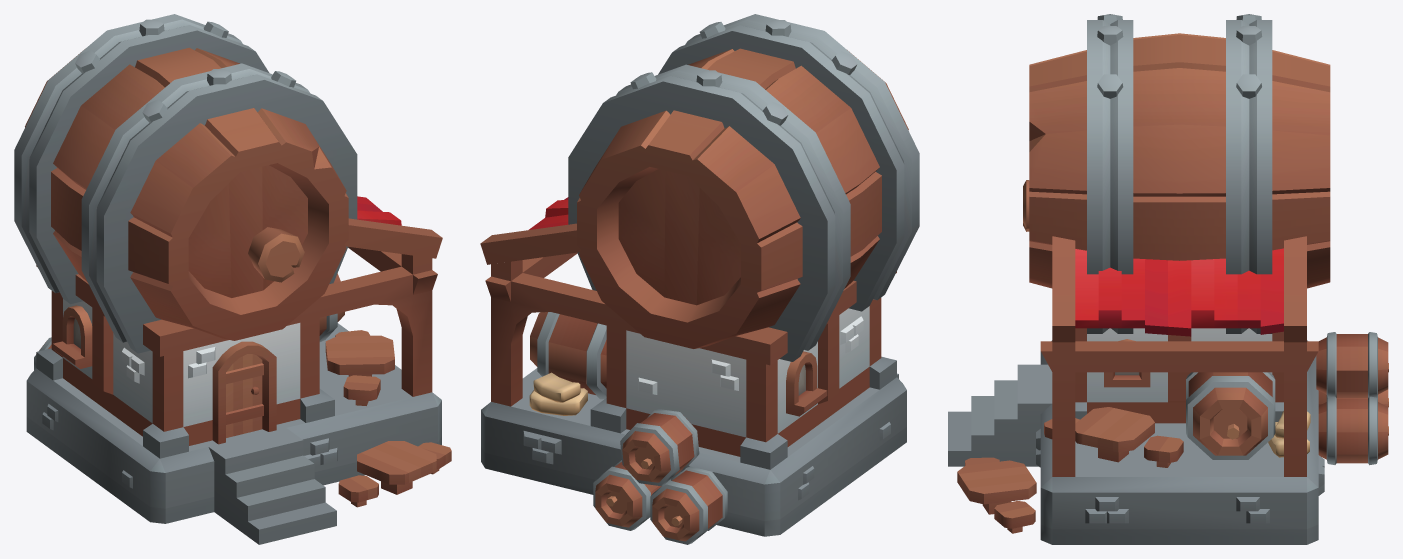
The model's file is tavern.glb.
3 views of the same model, side by side, from view 1: azimuth 30°, elevation 25°; view 2: azimuth 150°, elevation 25°; view 3: azimuth 270°, elevation 25° (orthographic). The views are drawn at different scales.
Visible parts, largest first — view 1: building_tavern_red; view 2: building_tavern_red; view 3: building_tavern_red.
Part boxes in pixels (bbox=[...]): building_tavern_red: bbox=[14, 14, 451, 544]; building_tavern_red: bbox=[480, 14, 919, 544]; building_tavern_red: bbox=[948, 14, 1388, 544].
Bounding box in the file's own units: 1.17 × 1.4 × 1.33.
Materials: 1 (1 with a texture image).
